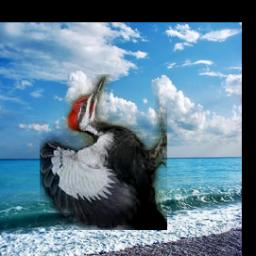Woodpecker: (41, 74, 168, 230)
